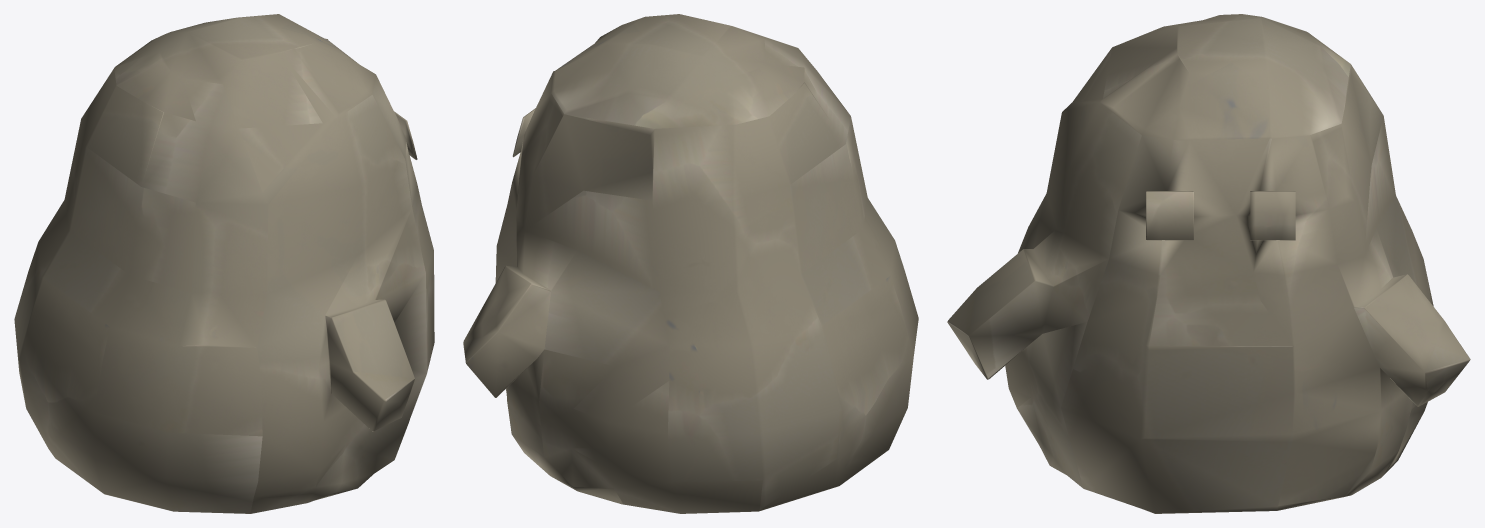
File: monster.fbx
3 views of the same model, side by side, from view 1: azimuth 30°, elevation 25°; view 2: azimuth 150°, elevation 25°; view 3: azimuth 270°, elevation 25° (orthographic). The views are drawn at different scales.
Visible parts, largest first — view 1: tripo_node_a91705c6-420a-4d97-9863-0d9eac38501c; view 2: tripo_node_a91705c6-420a-4d97-9863-0d9eac38501c; view 3: tripo_node_a91705c6-420a-4d97-9863-0d9eac38501c.
Part boxes in pixels (x1,y1,x2,y2): tripo_node_a91705c6-420a-4d97-9863-0d9eac38501c: (14,14,434,513); tripo_node_a91705c6-420a-4d97-9863-0d9eac38501c: (463,14,918,513); tripo_node_a91705c6-420a-4d97-9863-0d9eac38501c: (947,14,1470,513).
Bounding box in the file's own units: 0.7886 × 0.9022 × 1.
